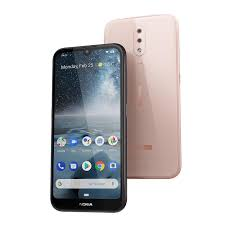nokia: (50, 42, 130, 216)
